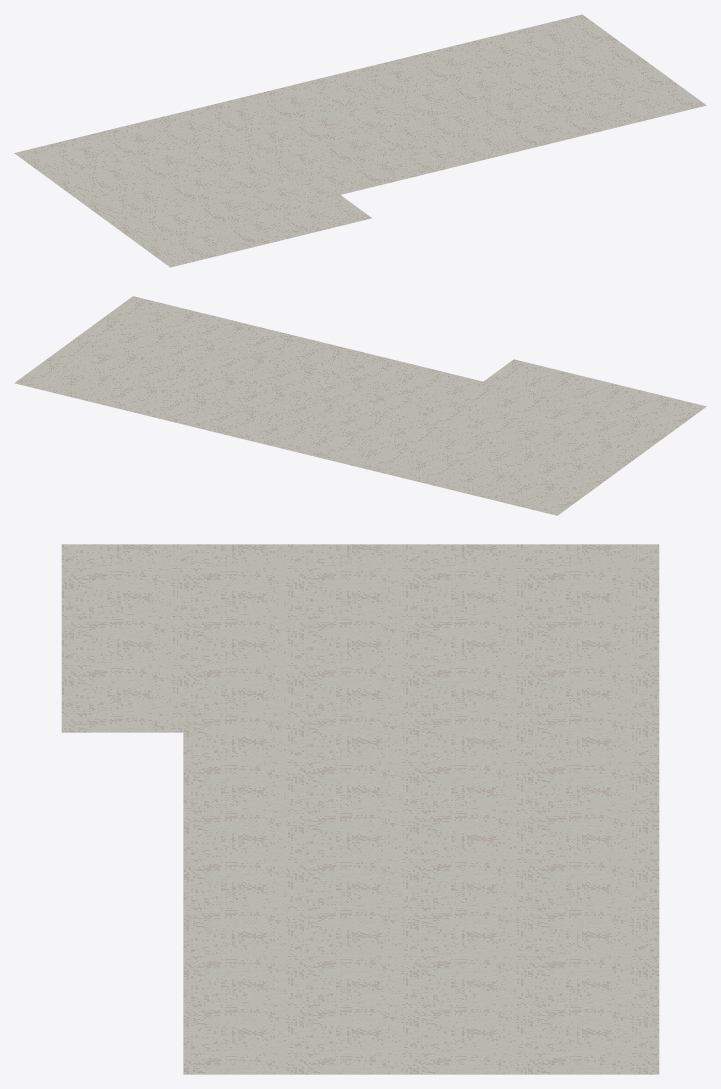
File: kd_stage_135c43_4_30_bounded_piece_16.glb
3 renders of one model, top to bottom at view 1: azimuth 30°, elevation 25°; view 2: azimuth 150°, elevation 25°; view 3: azimuth 270°, elevation 25°, orthographic. The views are drawn at different scales.
Visible parts, largest first — view 1: kd_stage_135c43_4_30_bounded_piece_16; view 2: kd_stage_135c43_4_30_bounded_piece_16; view 3: kd_stage_135c43_4_30_bounded_piece_16.
Boxes of the visible parts, <box> form: kd_stage_135c43_4_30_bounded_piece_16: <box>14,14,706,267</box>; kd_stage_135c43_4_30_bounded_piece_16: <box>14,296,706,515</box>; kd_stage_135c43_4_30_bounded_piece_16: <box>61,544,659,1074</box>.
Bounding box in the file's own units: 3.59 × 2.38e-07 × 1.71.
1 material, 1 textured.
